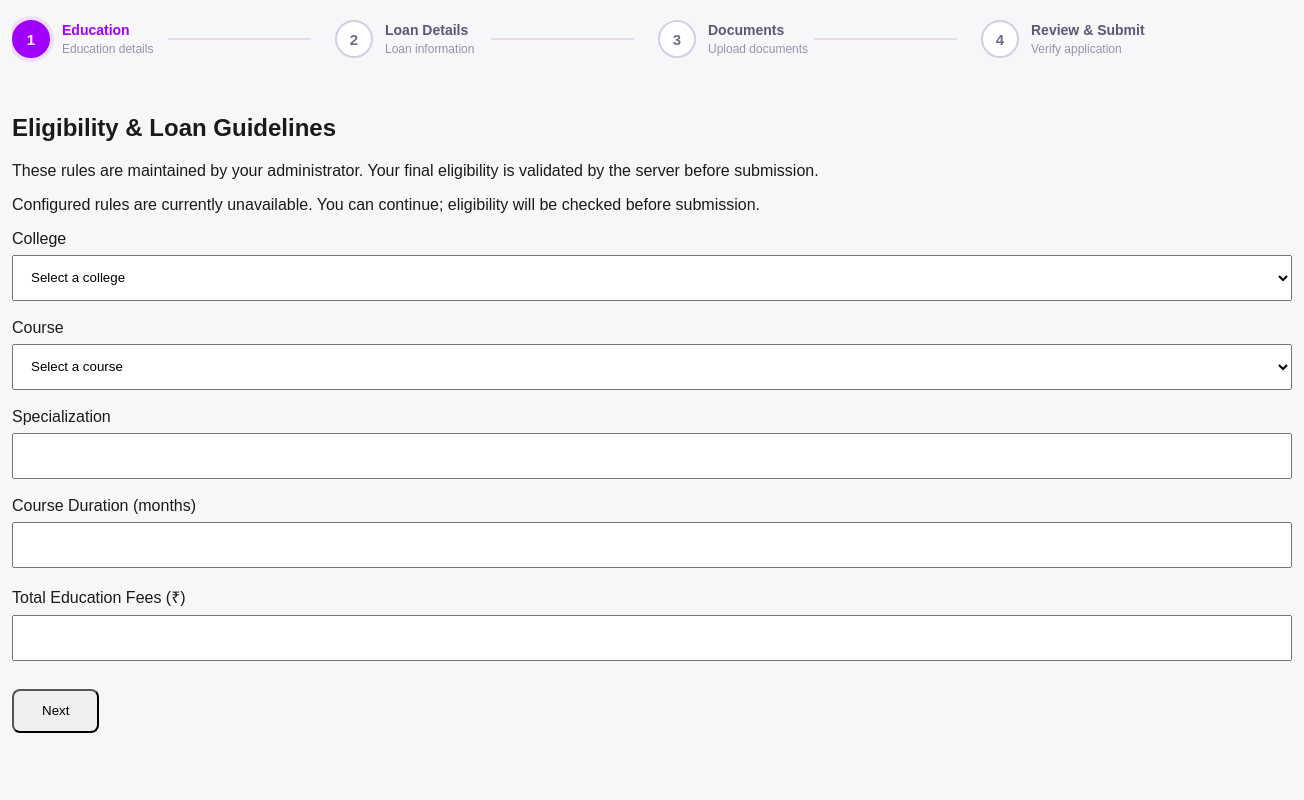
Test: NewApplicationWizard › blocks moving to step 2 when required education fields are missing
The image size is (1304, 800).
Expected: the dropdown labelled "College" is shown, [12, 255, 1292, 301]
Click the button "Next".
click(56, 711)  # box [12, 689, 99, 733]
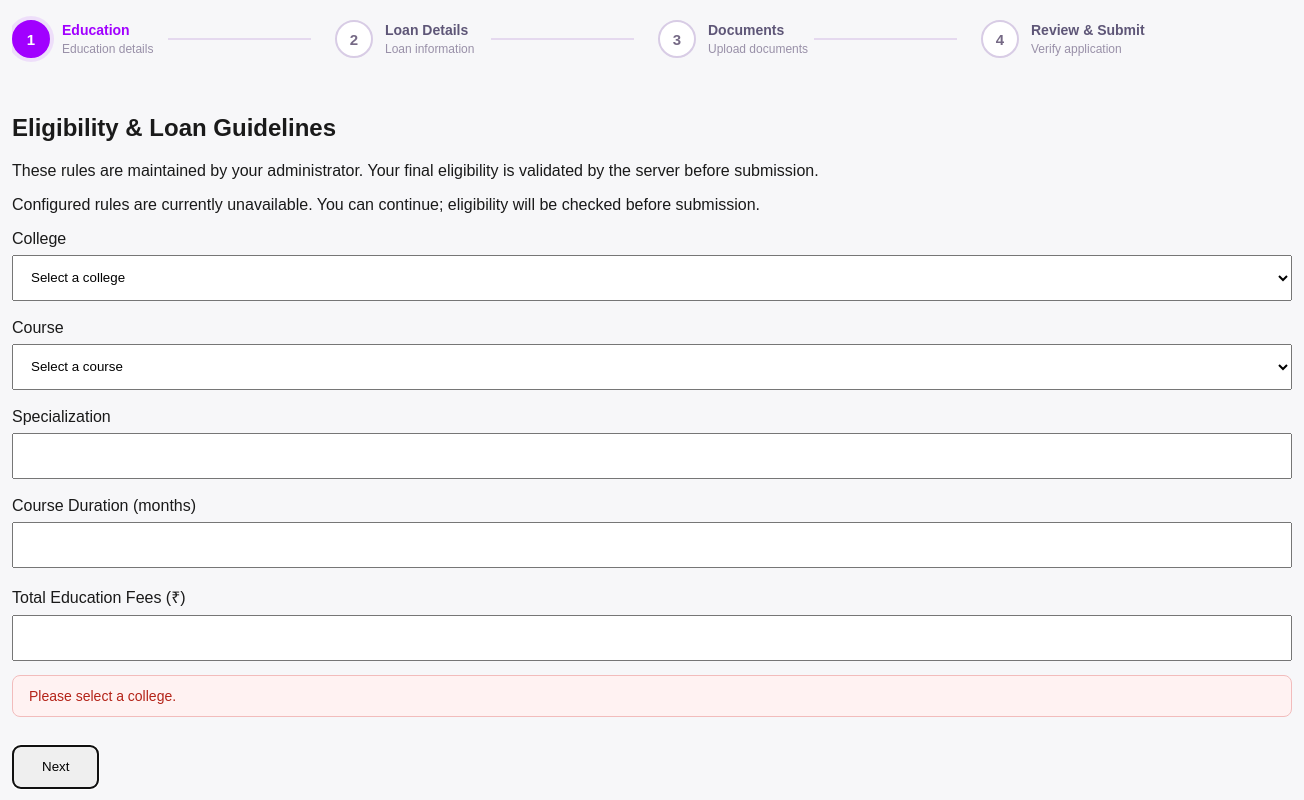
Now the text "Please select a college." is shown, box [12, 675, 1292, 717]
